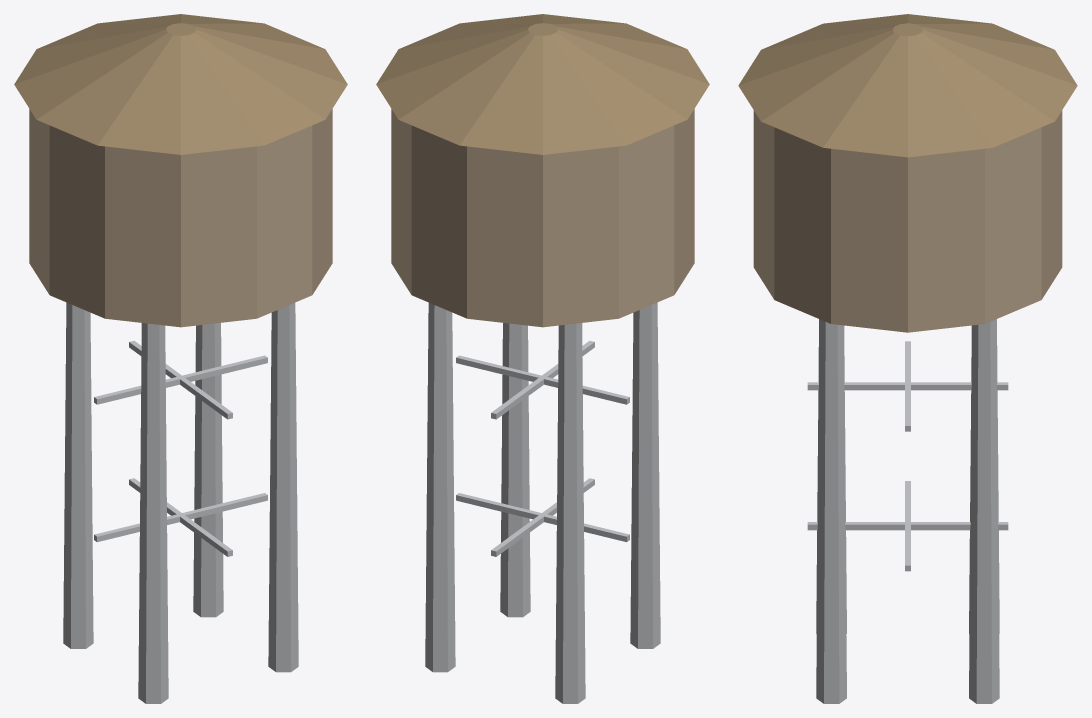
The model's file is water_tower.glb.
The picture shows the model from 3 angles, left to right: view 1: azimuth 30°, elevation 25°; view 2: azimuth 150°, elevation 25°; view 3: azimuth 270°, elevation 25°; orthographic projection.
Parts seen in each view (by area): view 1: water_tower; view 2: water_tower; view 3: water_tower.
Part boxes in pixels (x1=…): water_tower: x1=14, y1=14, x2=347, y2=703; water_tower: x1=376, y1=14, x2=709, y2=703; water_tower: x1=738, y1=14, x2=1077, y2=703.
Bounding box in the file's own units: 4.4 × 9.1 × 4.4.
